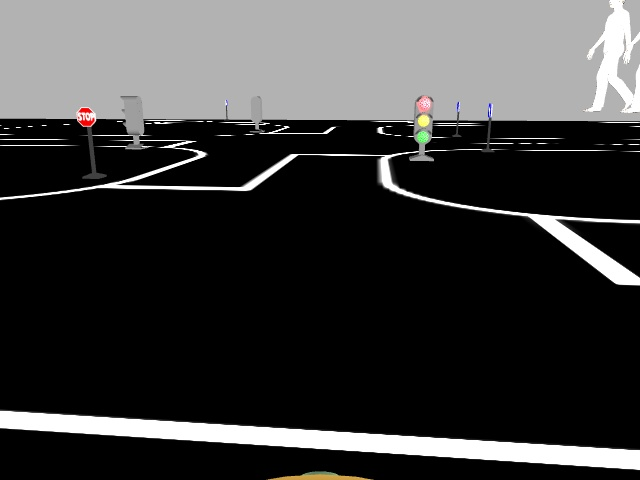Stop: (75, 106, 95, 127)
TrafficLight: (413, 95, 433, 144)
